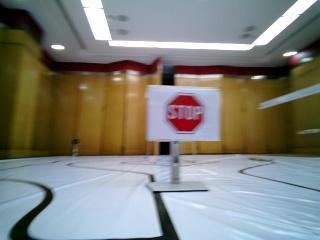stop: (150, 89, 214, 135)
